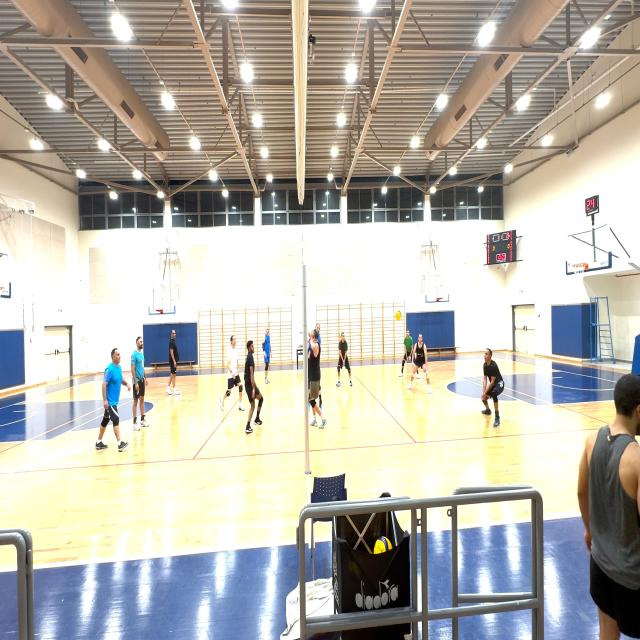volleyball: (373, 536, 392, 555), (395, 310, 402, 320)
